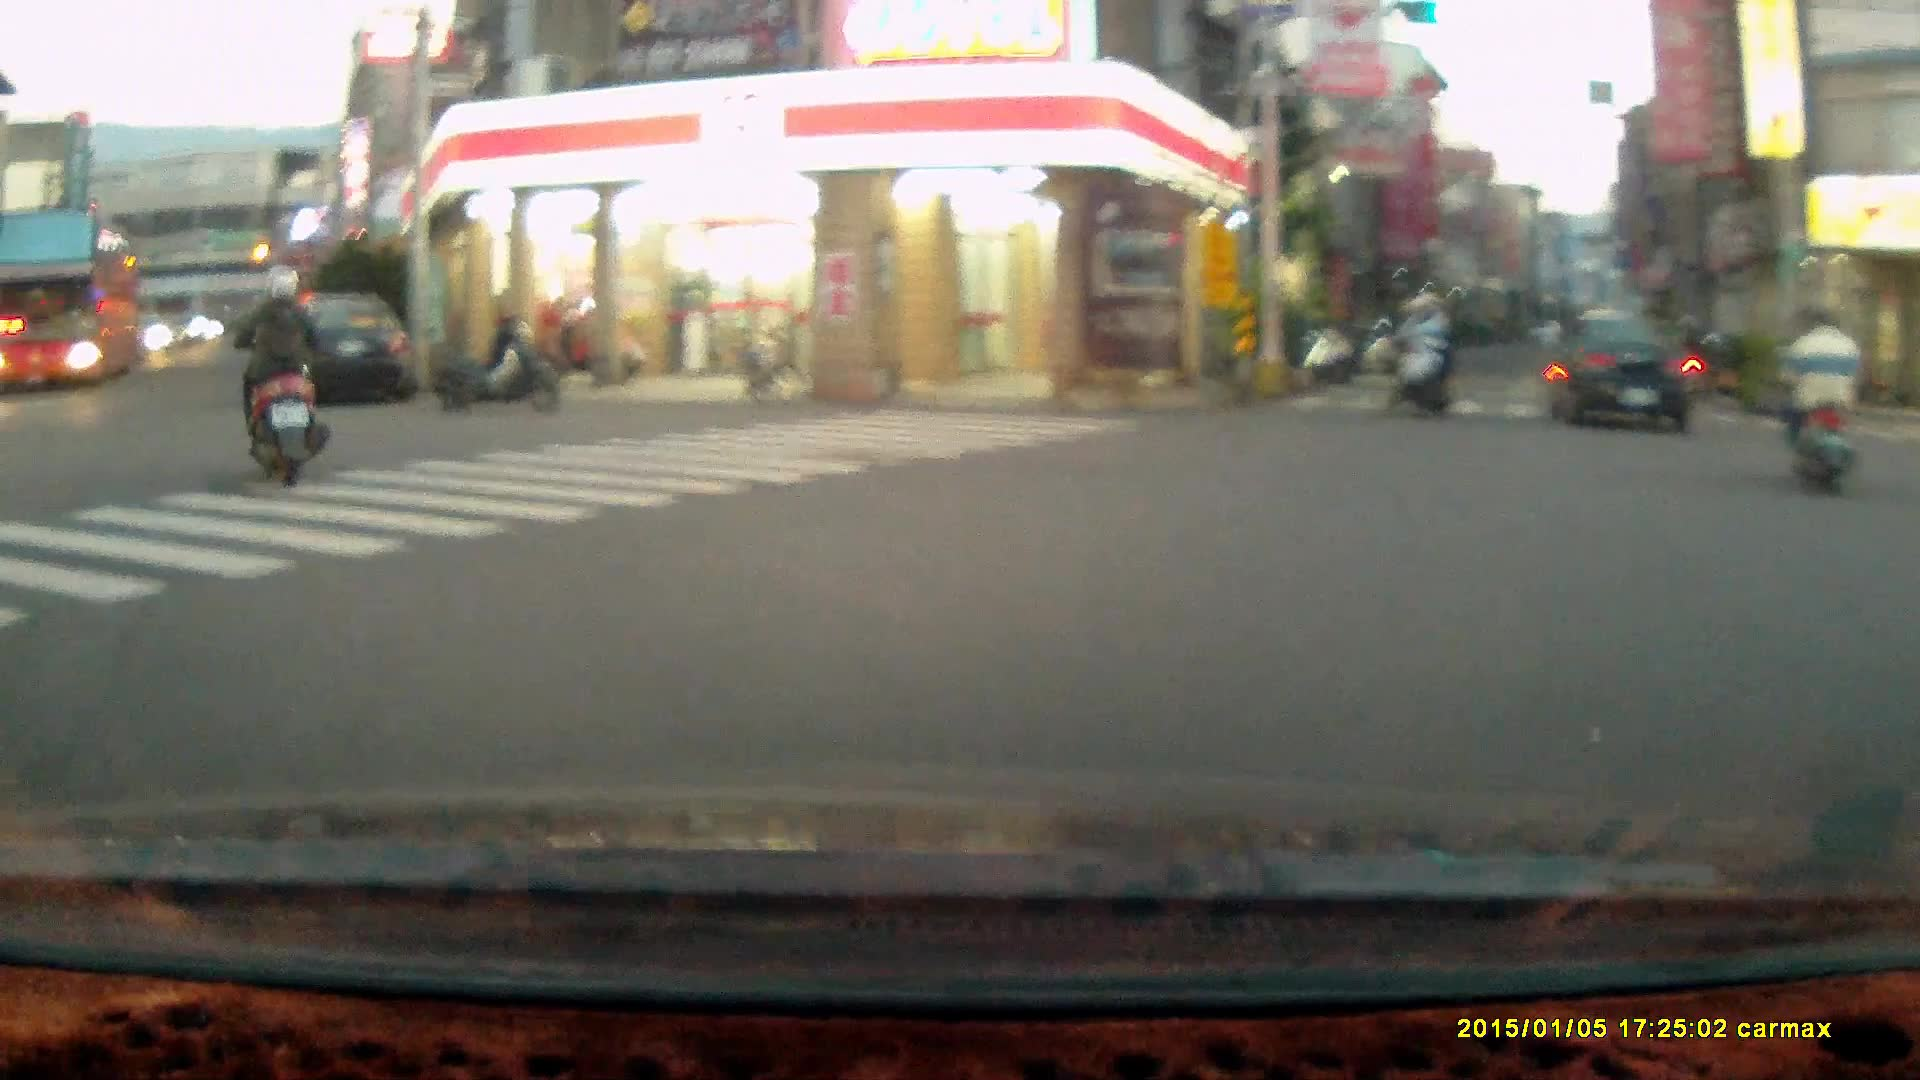rider: (232, 263, 330, 490), (1769, 299, 1865, 498), (1382, 291, 1452, 425)
vehicle: (1, 209, 147, 397), (1541, 308, 1705, 438), (280, 294, 420, 402)
